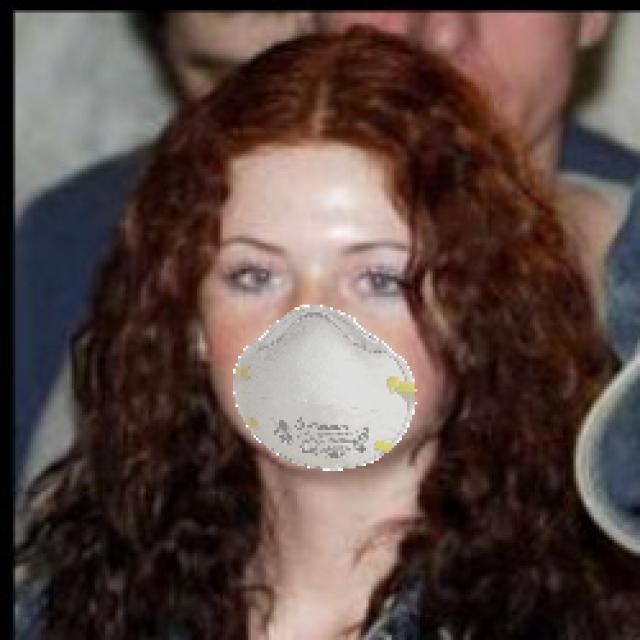n95: (194, 130, 445, 474)
